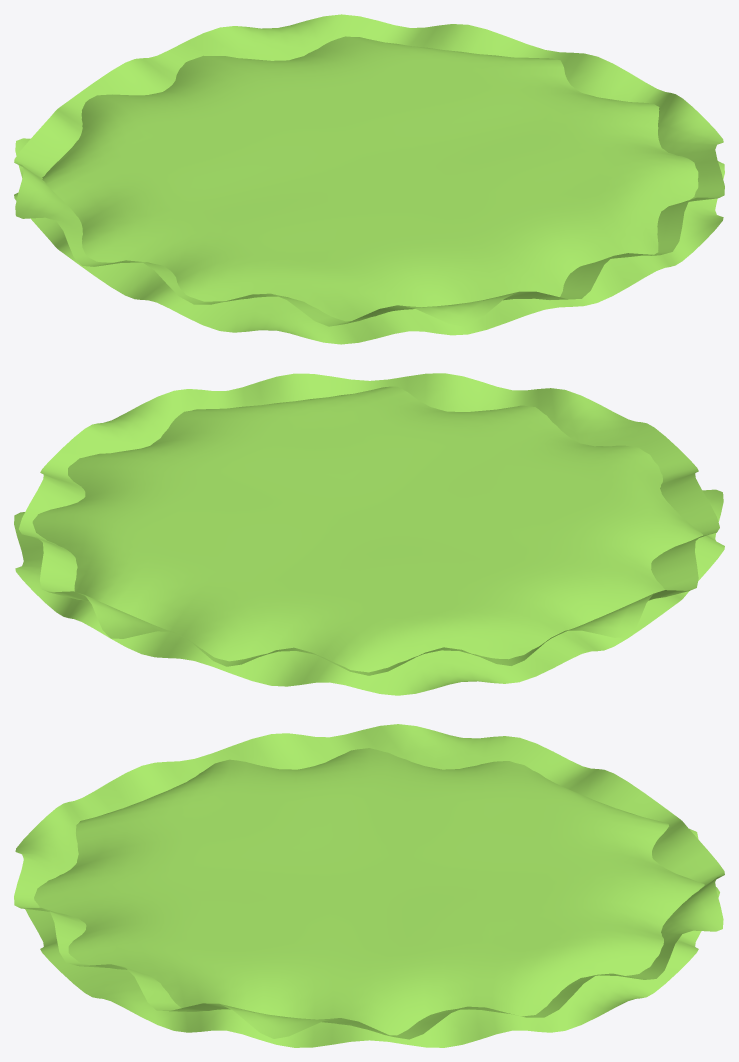
File: Lettuce.glb
3 views of the same model, one above another, from view 1: azimuth 30°, elevation 25°; view 2: azimuth 150°, elevation 25°; view 3: azimuth 270°, elevation 25° (orthographic).
Parts seen in each view (by area): view 1: Lechuga1, Lechuga2; view 2: Lechuga1, Lechuga2; view 3: Lechuga1, Lechuga2.
Part boxes in pixels (x1=…): Lechuga1: x1=14, y1=36, x2=724, y2=344; Lechuga2: x1=14, y1=14, x2=724, y2=326; Lechuga1: x1=14, y1=386, x2=724, y2=695; Lechuga2: x1=19, y1=373, x2=719, y2=675; Lechuga1: x1=25, y1=748, x2=719, y2=1047; Lechuga2: x1=14, y1=724, x2=724, y2=1039.
Bounding box in the file's own units: 2.1 × 0.1339 × 2.1.
